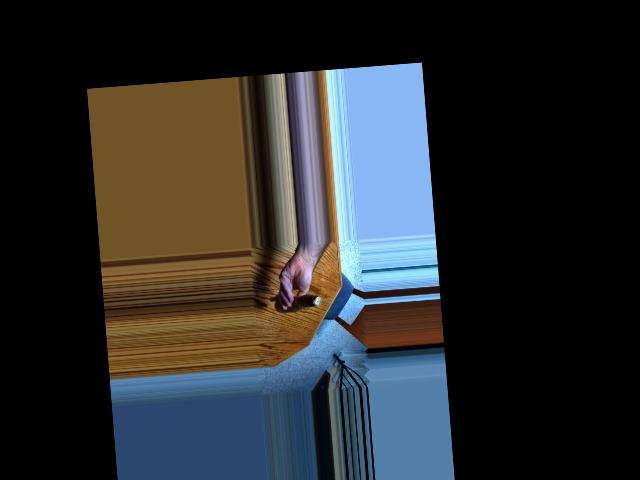sweet_potato: (278, 290, 319, 315)
